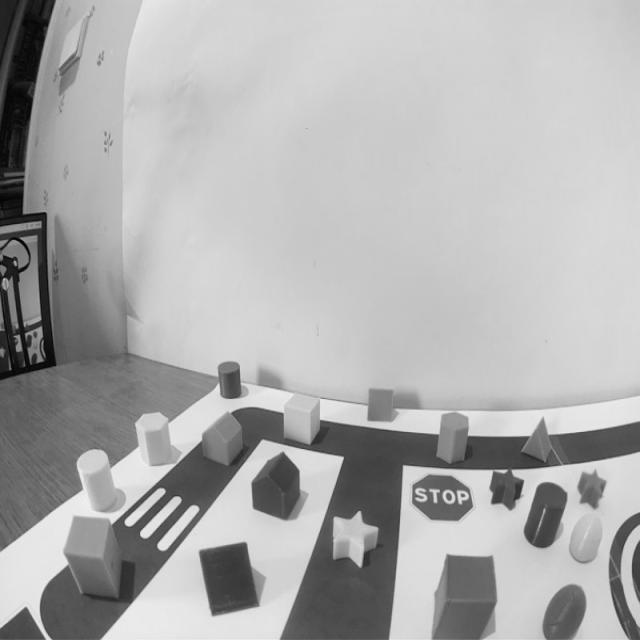ball: (538, 578, 592, 640)
cube: (428, 548, 501, 640), (58, 507, 126, 601), (279, 388, 326, 450)
cylinder: (522, 478, 569, 554), (76, 444, 120, 514), (215, 356, 244, 402)
hexagon: (133, 408, 176, 468), (436, 410, 471, 469)
home: (246, 449, 306, 525), (196, 406, 248, 470)
star: (328, 508, 384, 575), (486, 465, 525, 512), (575, 464, 611, 512)
stop: (395, 469, 478, 528)
triangle: (193, 534, 265, 620), (519, 412, 556, 466), (363, 378, 396, 426)
